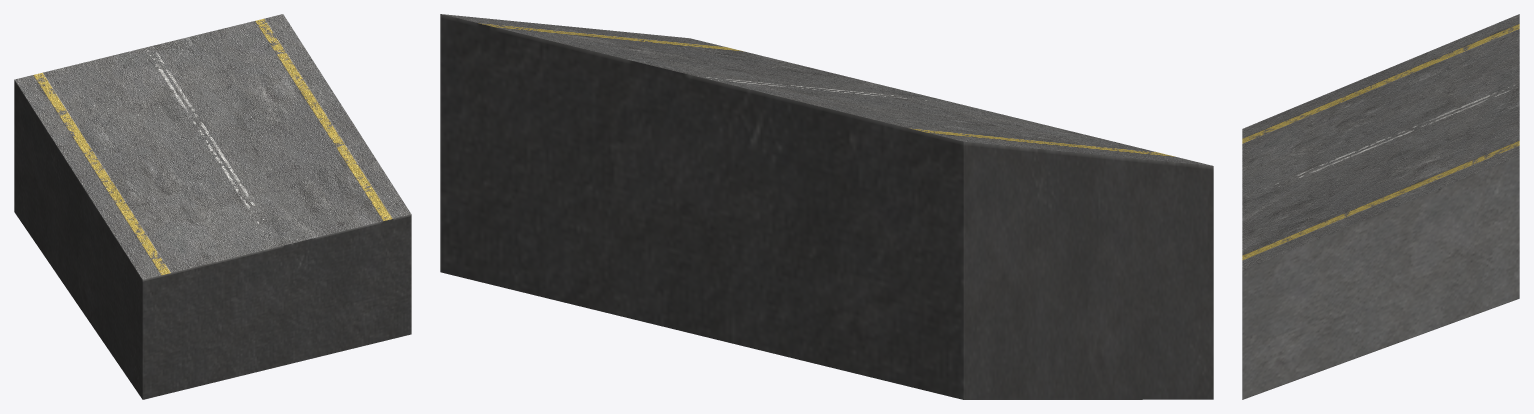
The model's file is RampRoadBlock.fbx.
3 views of the same model, side by side, from view 1: azimuth 30°, elevation 25°; view 2: azimuth 150°, elevation 25°; view 3: azimuth 270°, elevation 25° (orthographic). The views are drawn at different scales.
Parts seen in each view (by area): view 1: RampRoadBlock; view 2: RampRoadBlock; view 3: RampRoadBlock.
Part boxes in pixels (x1,y1,x2,y2): RampRoadBlock: [14, 14, 411, 399]; RampRoadBlock: [440, 14, 1213, 399]; RampRoadBlock: [1242, 14, 1519, 399].
Bounding box in the file's own units: 620 × 499 × 513.
Materials: 1 (1 with a texture image).
